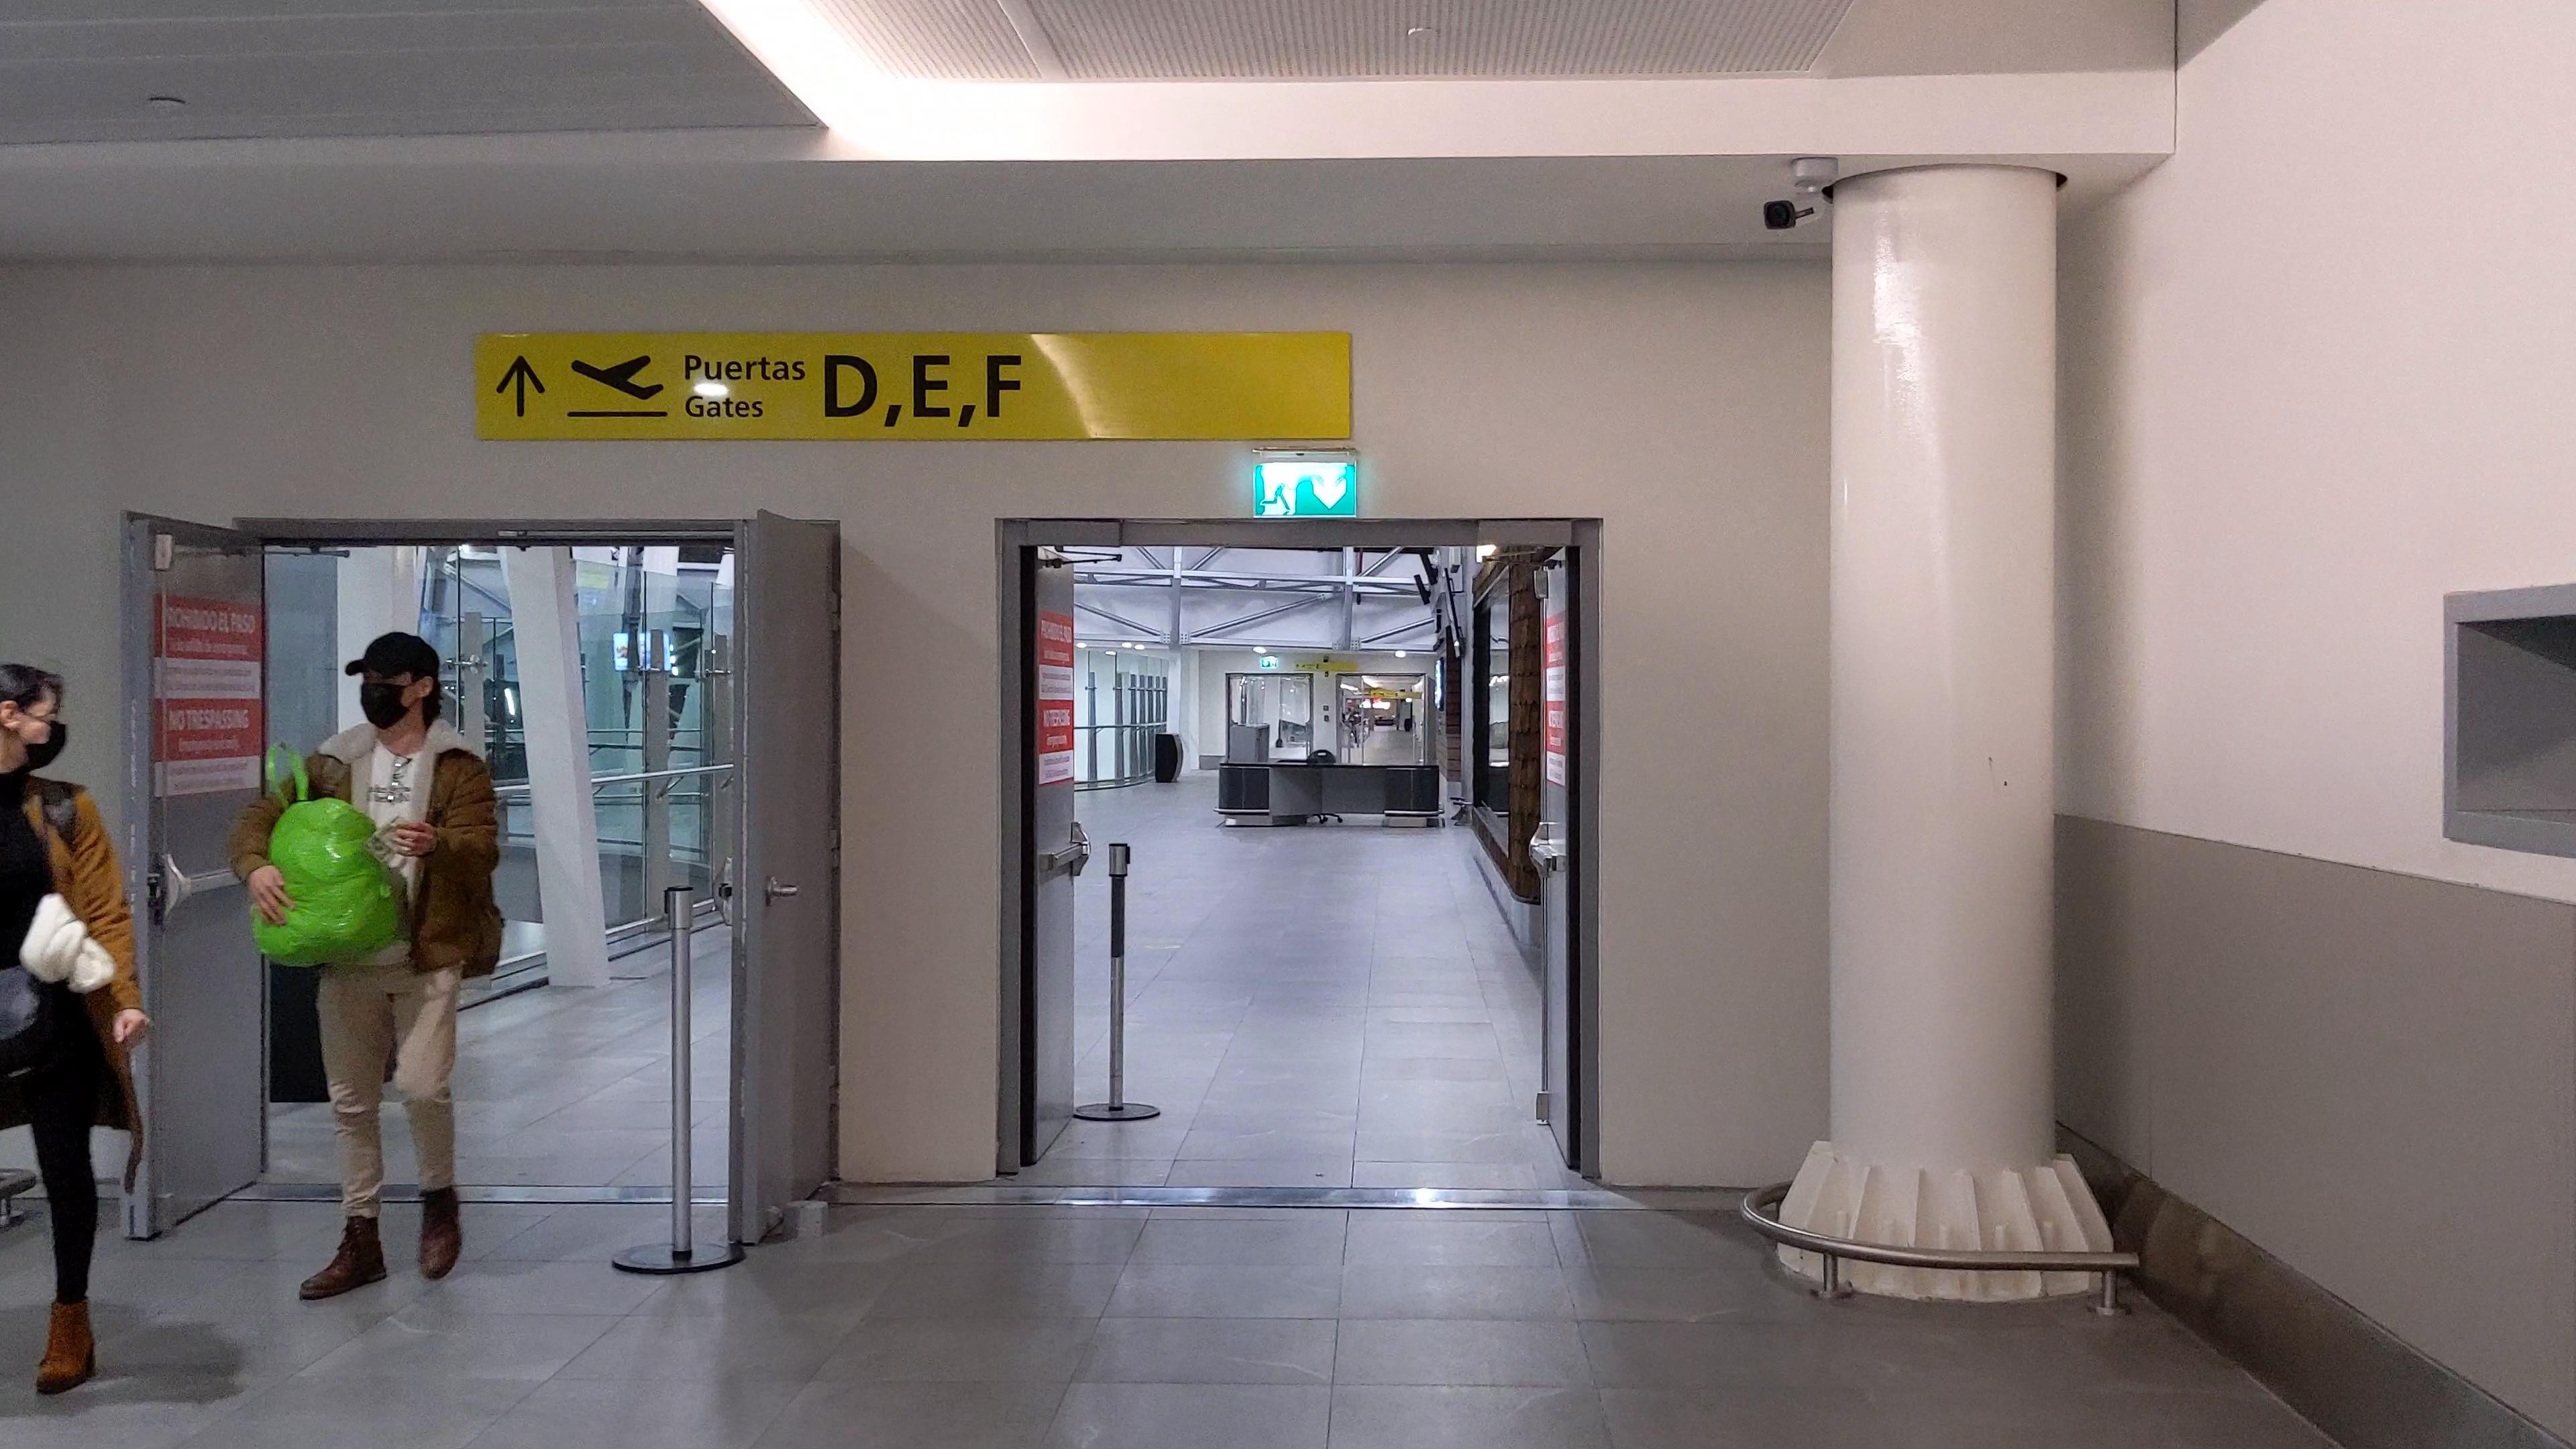airplane symbol: (557, 338, 678, 405)
emergency exit: (1256, 464, 1300, 517)
no trespassing: (154, 594, 264, 793), (1037, 610, 1076, 786)
thin up arrow: (492, 350, 548, 421)
